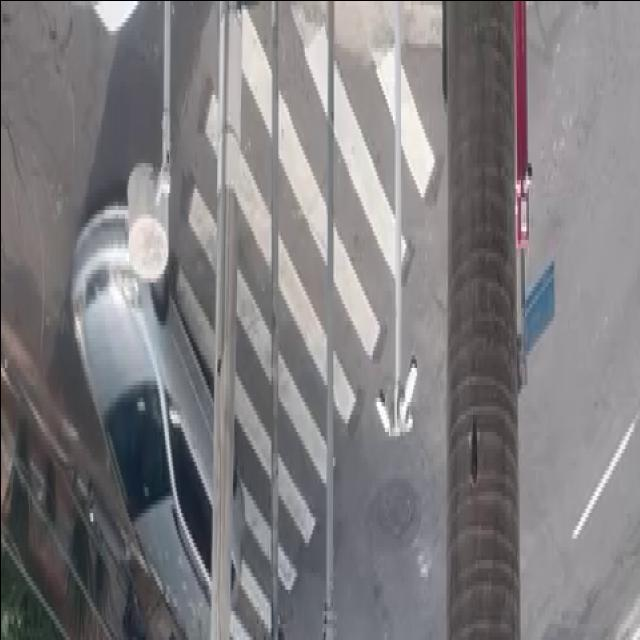car: (72, 199, 244, 622)
